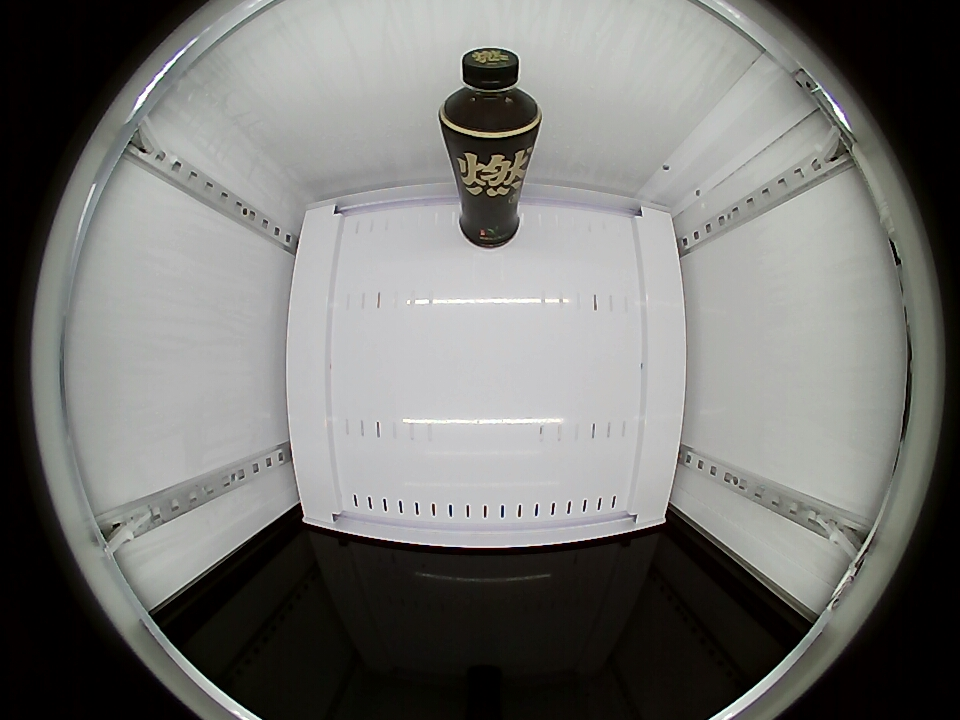rancha-1: (440, 47, 541, 144)
